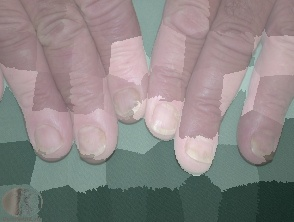Nail_psoriasis: (71, 100, 120, 166), (107, 81, 155, 131), (146, 98, 189, 141), (25, 125, 67, 162), (242, 124, 282, 162), (184, 133, 220, 172)
